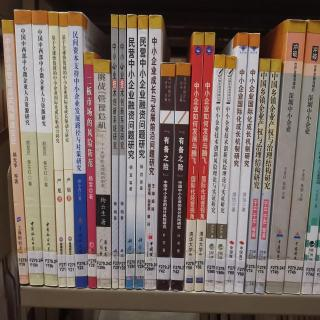book-spine: (260, 17, 309, 294), (280, 20, 320, 295), (13, 9, 44, 286), (249, 58, 285, 296), (221, 31, 251, 294), (30, 10, 58, 286), (0, 20, 29, 285), (233, 32, 261, 295), (243, 58, 271, 295), (180, 32, 204, 291), (66, 9, 88, 289), (193, 28, 216, 291), (48, 10, 67, 287), (204, 55, 226, 294), (213, 54, 235, 292), (143, 15, 162, 290), (169, 62, 191, 293), (120, 13, 138, 290), (155, 63, 176, 291), (59, 13, 75, 288), (133, 15, 149, 290), (94, 60, 111, 289), (83, 50, 96, 289), (109, 13, 119, 289), (118, 15, 125, 289)
